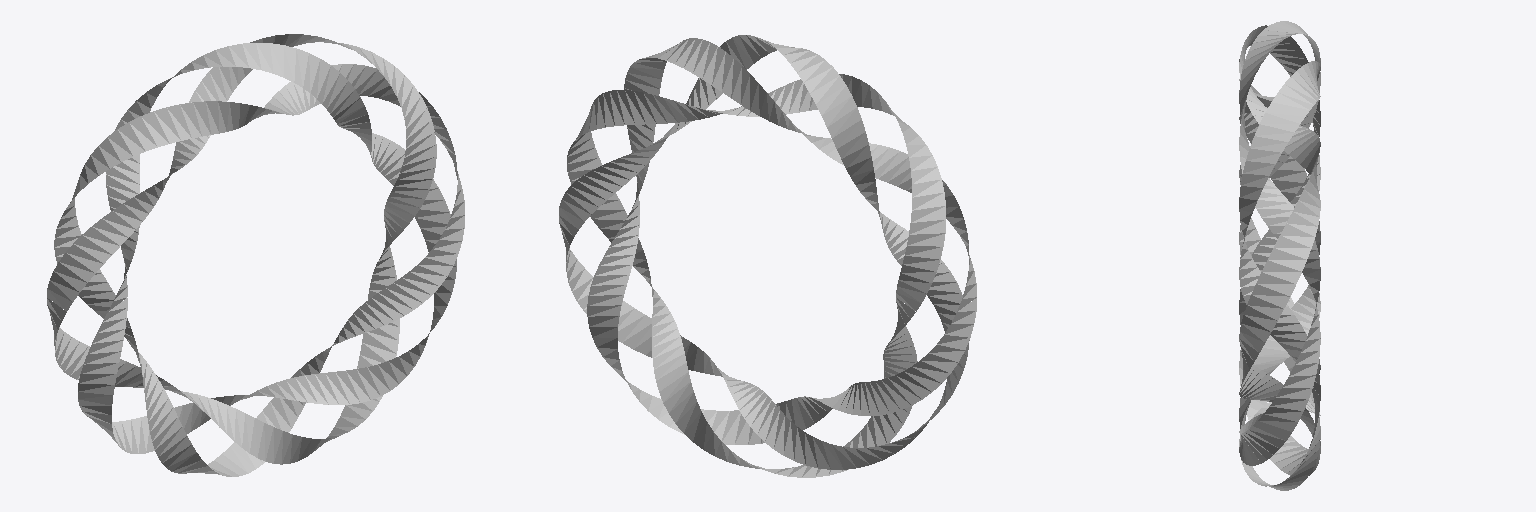
Rendered from PowerRing.obj.
3 renders of one model, left to right at view 1: azimuth 30°, elevation 25°; view 2: azimuth 150°, elevation 25°; view 3: azimuth 270°, elevation 25°, orthographic.
Visible parts, largest first — view 1: Cylinder.003; view 2: Cylinder.003; view 3: Cylinder.003.
Part boxes in pixels (left/top/right/bottom): Cylinder.003: left=47, top=34, right=464, bottom=476; Cylinder.003: left=559, top=35, right=976, bottom=477; Cylinder.003: left=1239, top=21, right=1320, bottom=490.
Size of the model in its own units: 2.29 by 2.31 by 0.4.